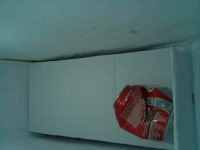kaleng: (112, 84, 174, 143)
